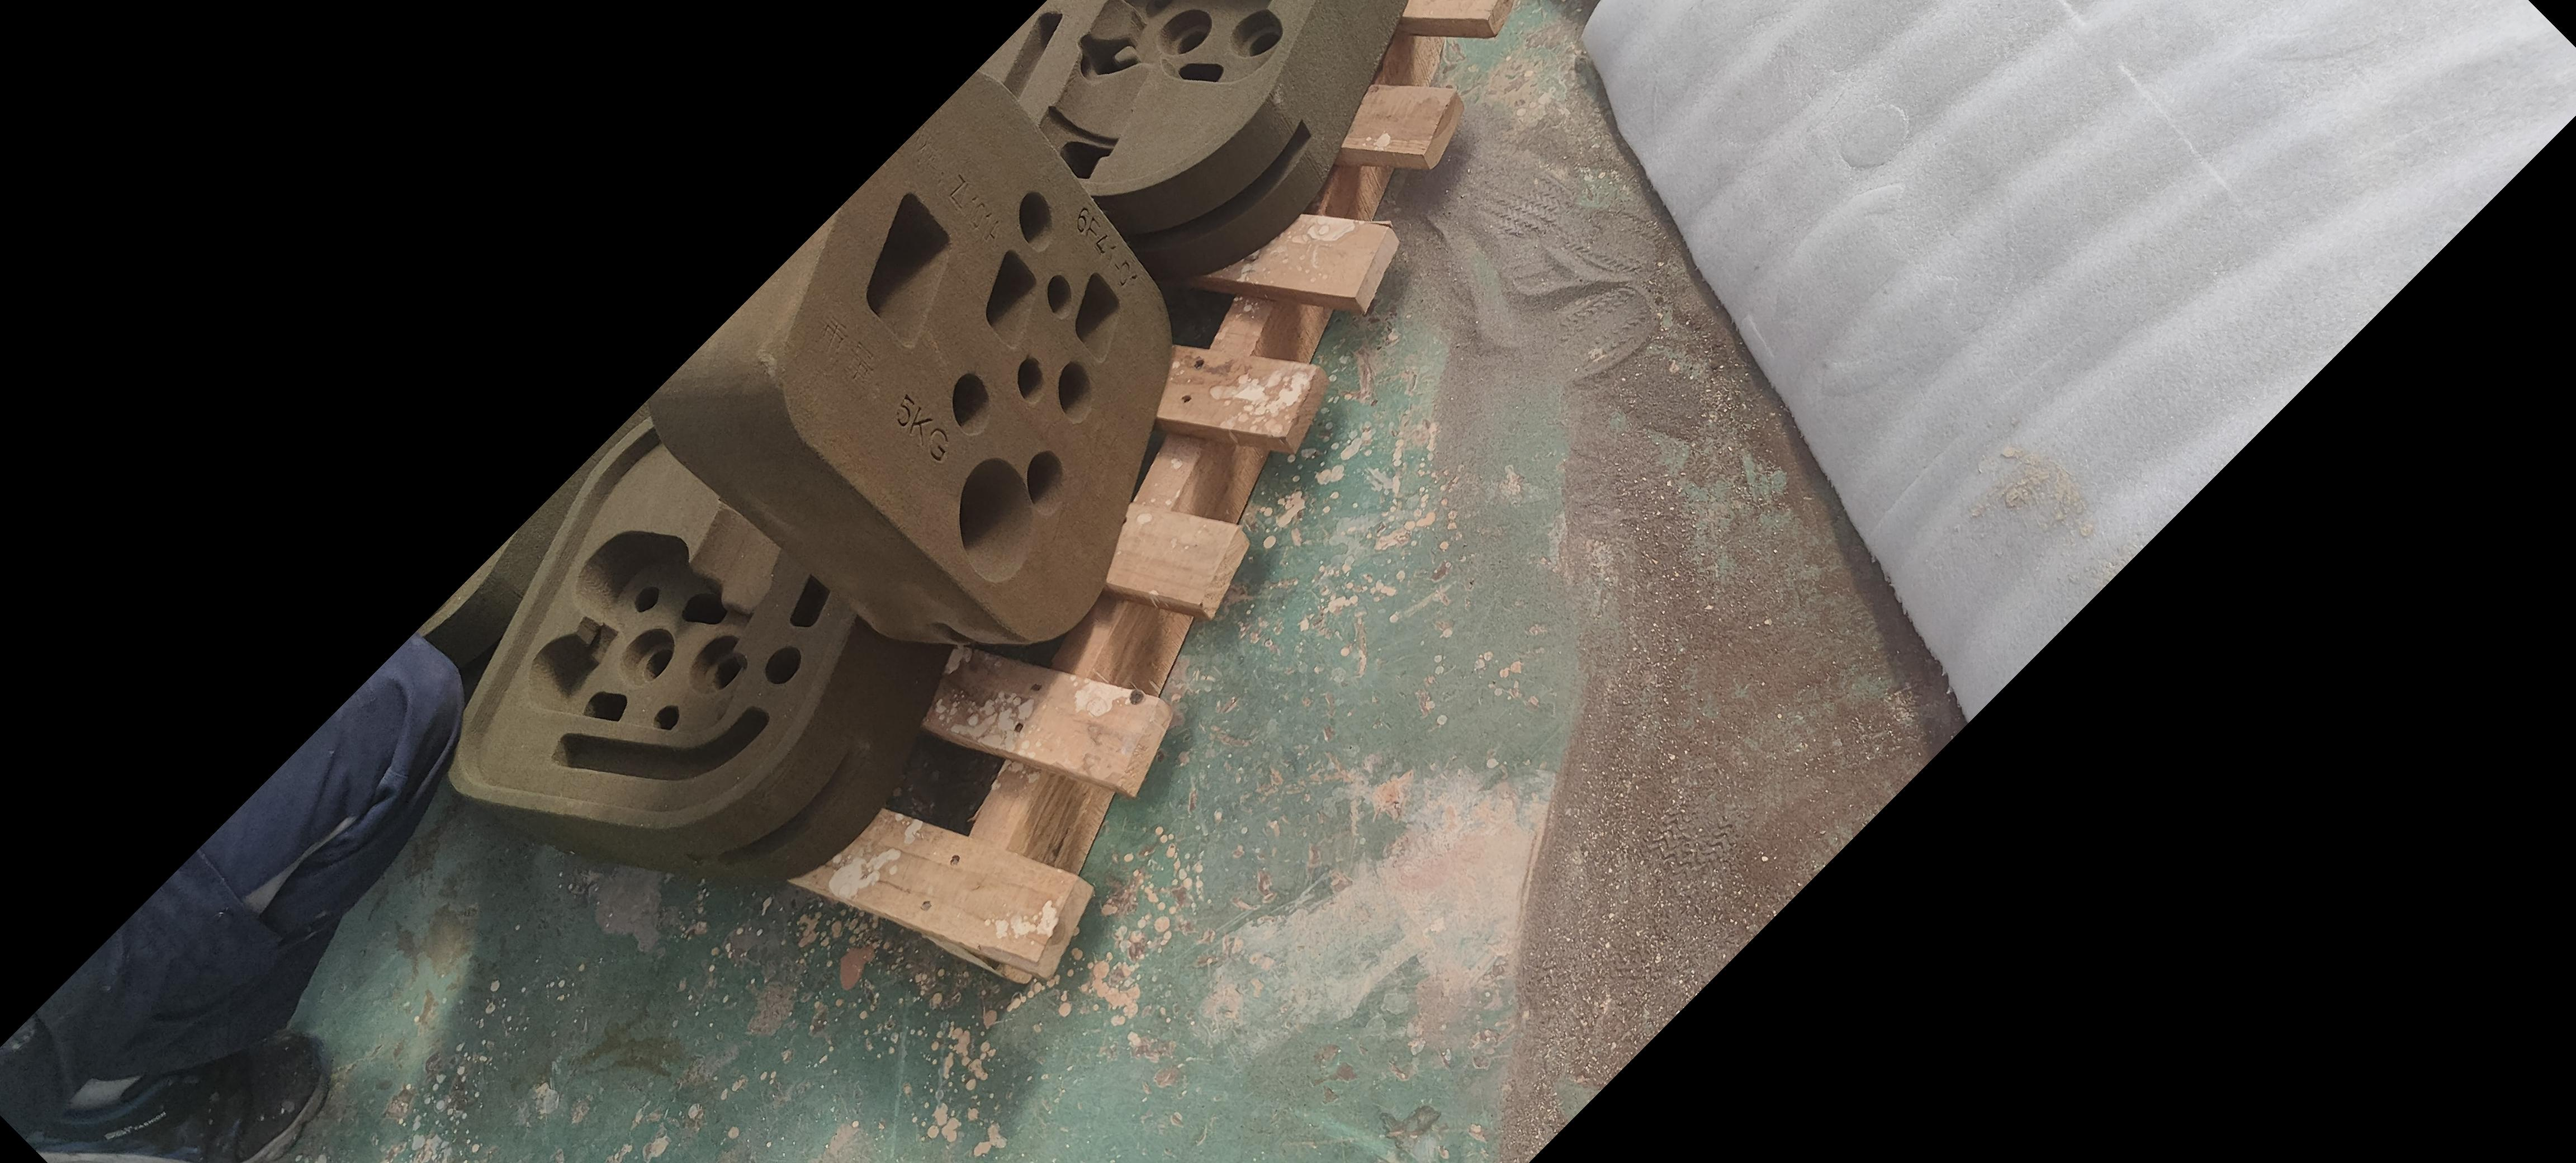pouring hole: (958, 458, 1035, 585)
